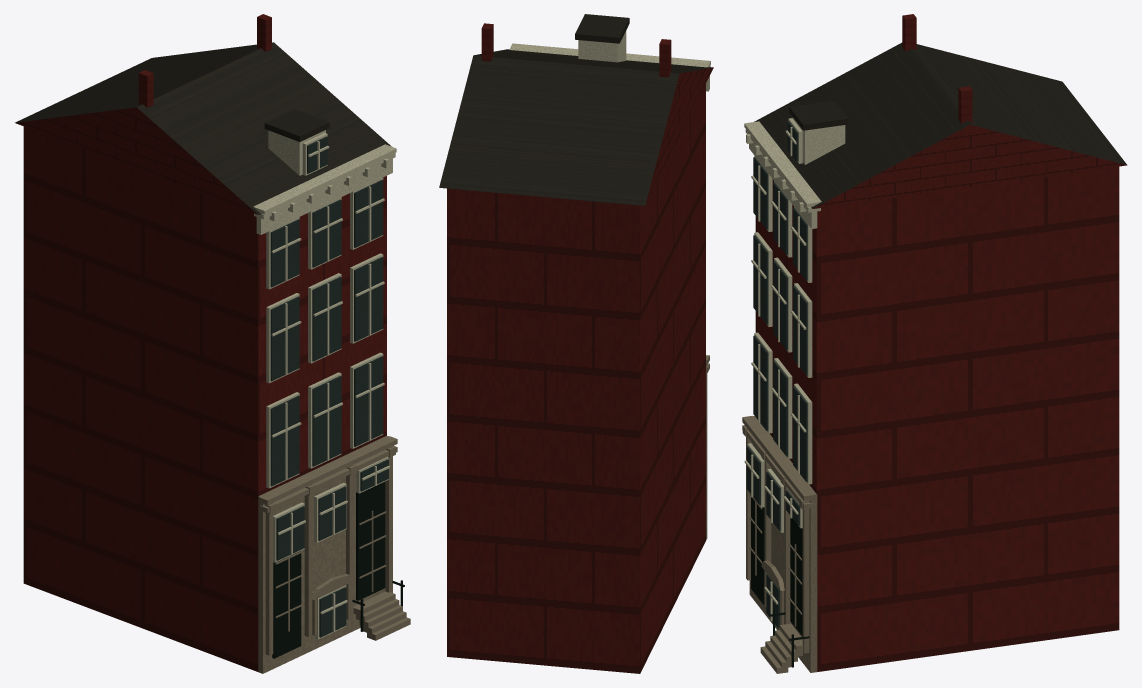
3 renders of one model, left to right at view 1: azimuth 30°, elevation 25°; view 2: azimuth 150°, elevation 25°; view 3: azimuth 270°, elevation 25°, orthographic. The views are drawn at different scales.
Visible parts, largest first — view 1: wijnhaven67-0, wijnhaven67-1, wijnhaven67-4, wijnhaven67-3, wijnhaven67-2, wijnhaven67-5; view 2: wijnhaven67-0, wijnhaven67-1, wijnhaven67-2; view 3: wijnhaven67-0, wijnhaven67-1, wijnhaven67-2, wijnhaven67-4, wijnhaven67-3, wijnhaven67-5.
Boxes of the visible parts, left/top/right/bottom form: wijnhaven67-0: left=15, top=14, right=386, bottom=671; wijnhaven67-1: left=15, top=42, right=391, bottom=214; wijnhaven67-4: left=270, top=136, right=388, bottom=637; wijnhaven67-3: left=258, top=435, right=410, bottom=673; wijnhaven67-2: left=253, top=130, right=396, bottom=639; wijnhaven67-5: left=272, top=481, right=404, bottom=658; wijnhaven67-0: left=447, top=23, right=713, bottom=673; wijnhaven67-1: left=439, top=14, right=713, bottom=205; wijnhaven67-2: left=509, top=31, right=710, bottom=91; wijnhaven67-0: left=755, top=14, right=1126, bottom=671; wijnhaven67-1: left=754, top=42, right=1127, bottom=208; wijnhaven67-2: left=744, top=117, right=845, bottom=629; wijnhaven67-4: left=746, top=121, right=807, bottom=628; wijnhaven67-3: left=742, top=416, right=817, bottom=673; wijnhaven67-5: left=751, top=497, right=809, bottom=667.
Bounding box in the file's own units: 11.37 × 23.25 × 14.52.
Materials: 6 (6 with a texture image).
